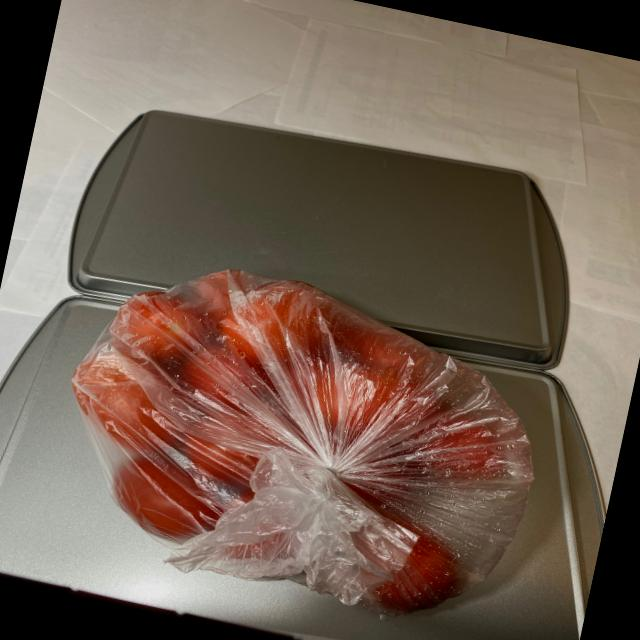tomato: (41, 240, 556, 635)
